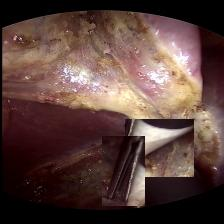Grasper: (101, 136, 143, 206)
Hook: (124, 119, 193, 177)
